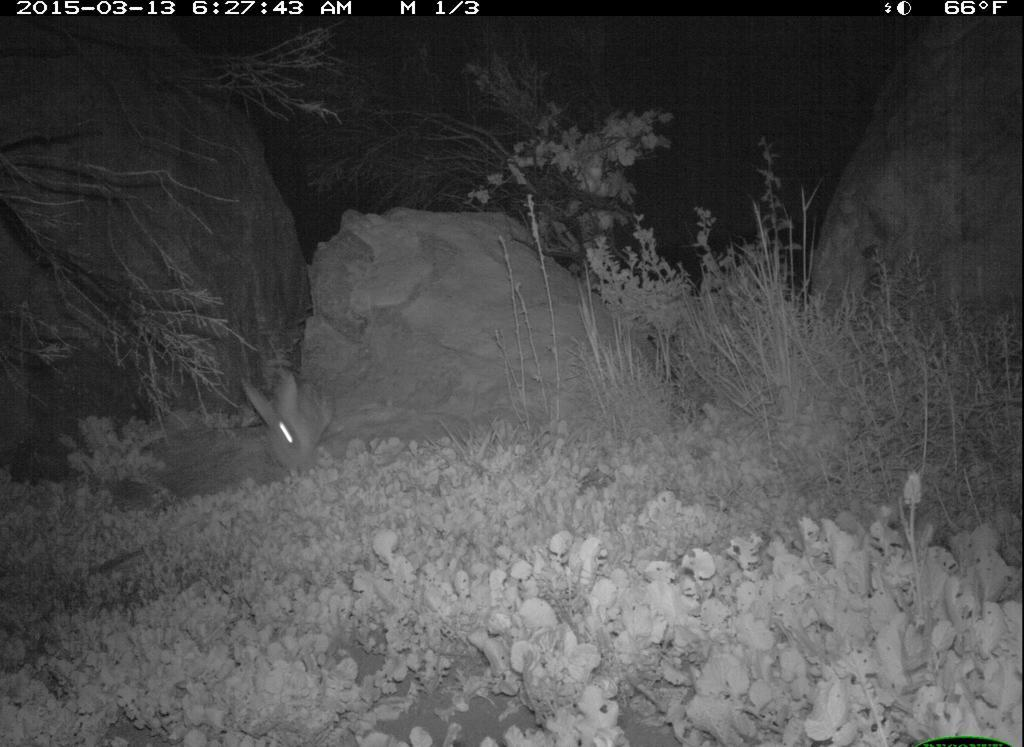rabbit: (233, 364, 353, 482)
